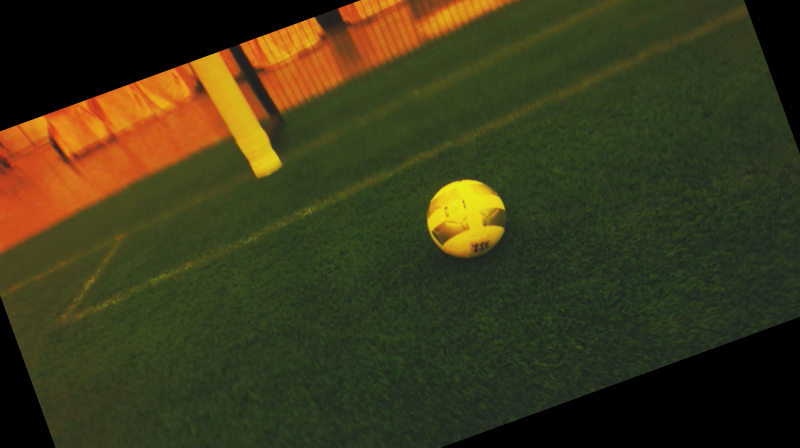post: (221, 112, 288, 193)
